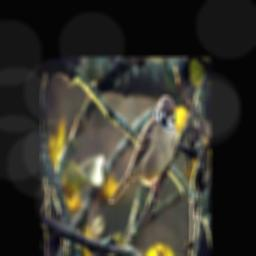Sparrow: (108, 92, 177, 205)
